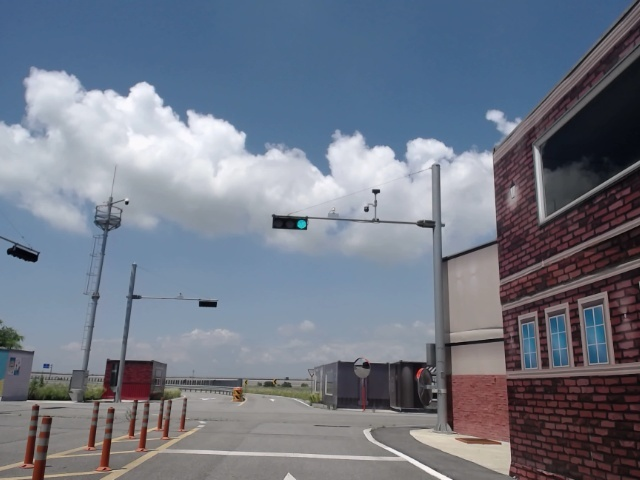green_3: (271, 212, 310, 229)
